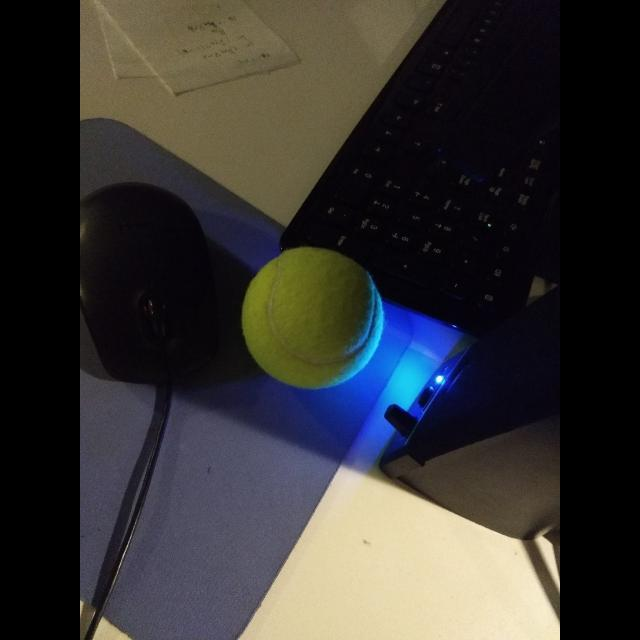tennis-ball: (238, 245, 384, 393)
